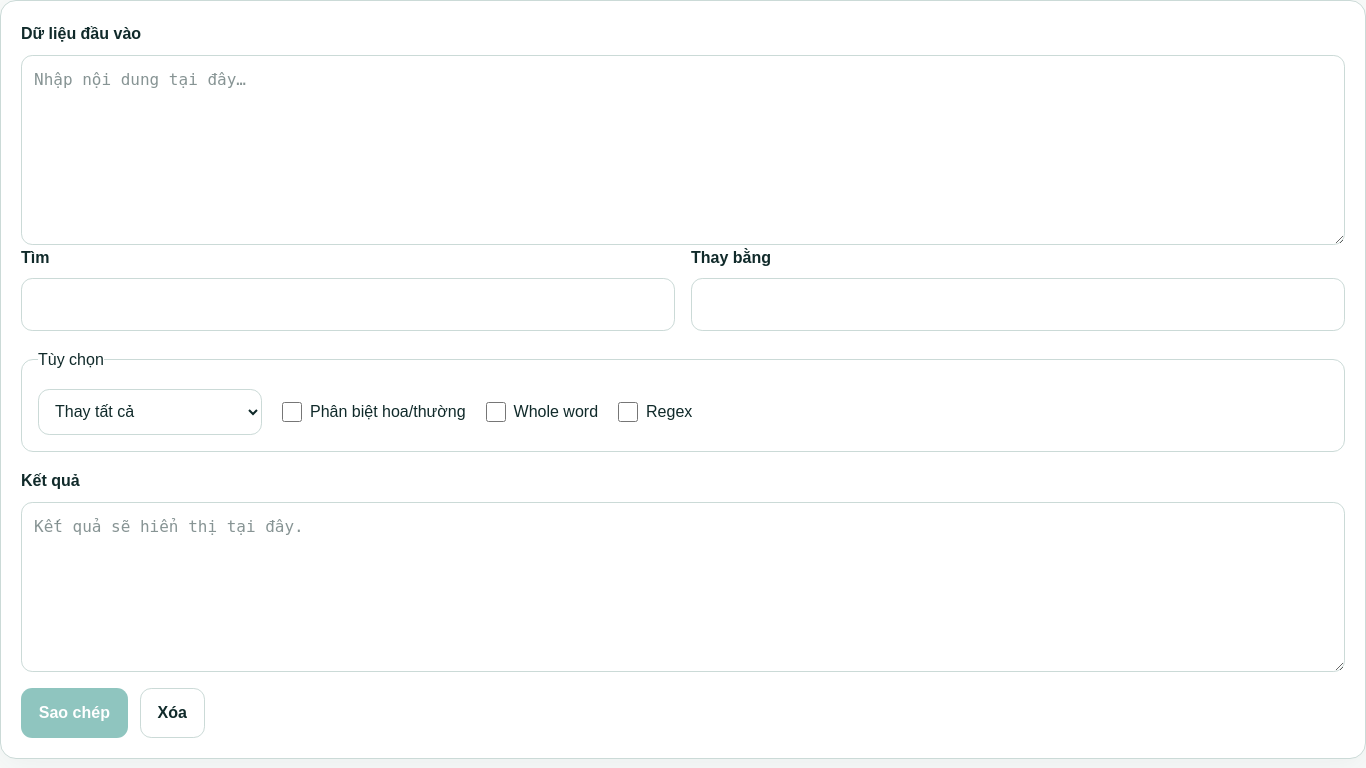
Test: ToolWorkbench › shows regex validation instead of crashing
This screenshot has width=1366, height=768.
In the text box labelled "Dữ liệu đầu vào": x=683, y=150 [21,55,1345,245], type "abc"
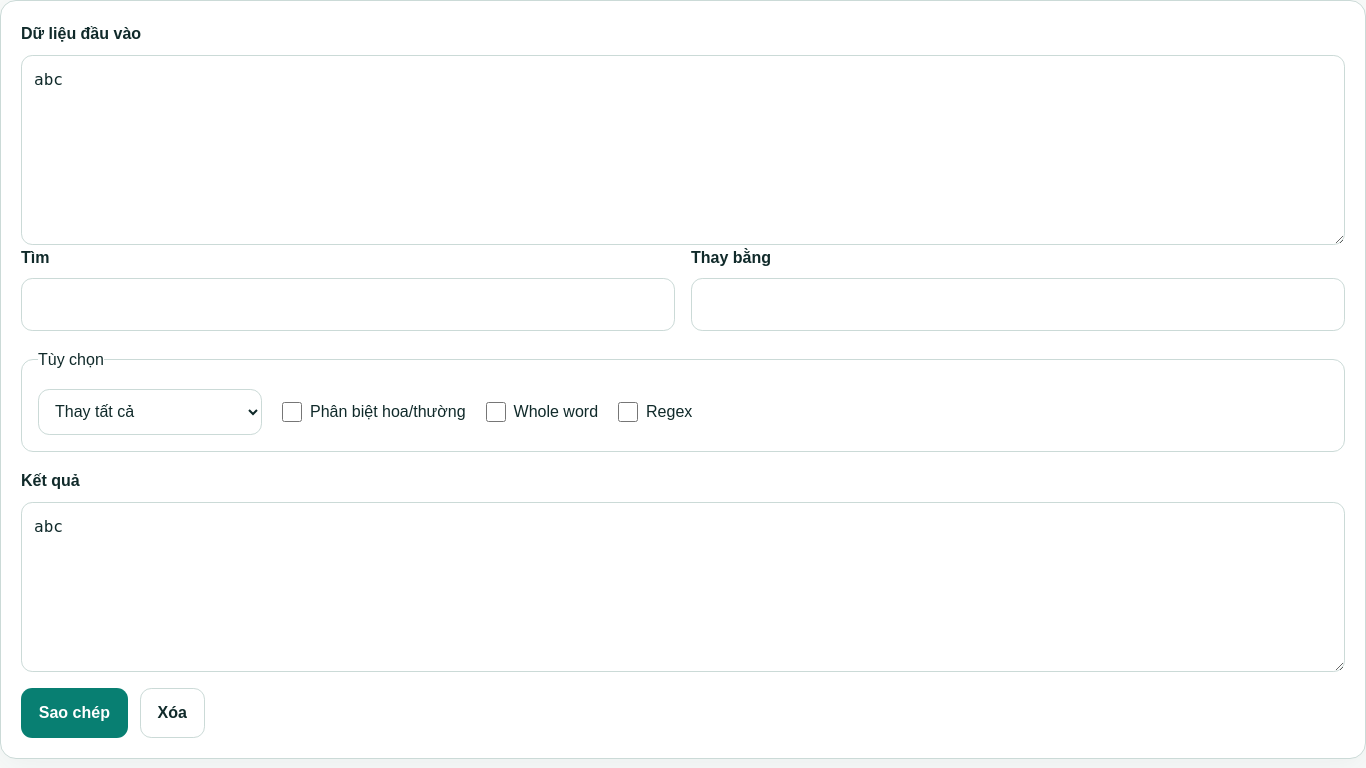
In the field labelled "Tìm": x=348, y=304 [21,278,675,331], type "["
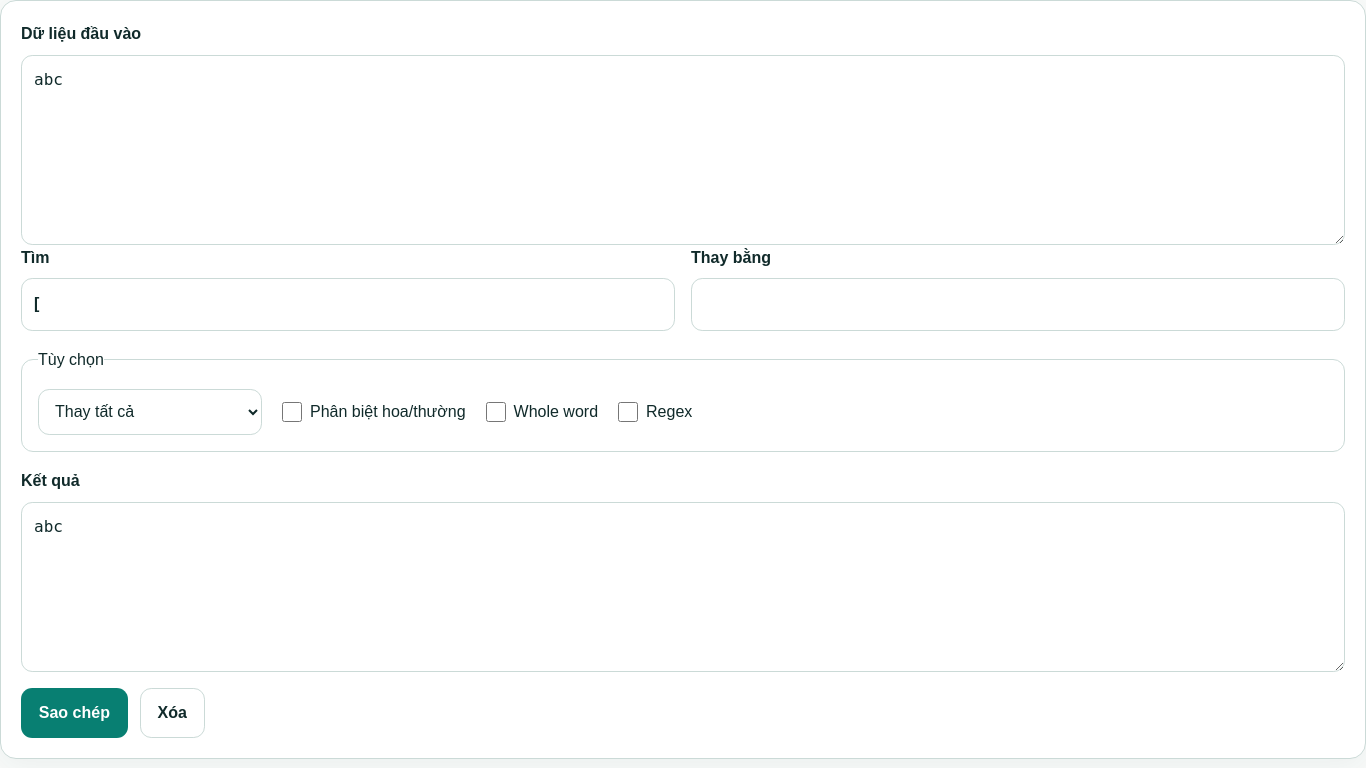
Click the checkbox labelled "Regex": x=628, y=412 [618,402,638,422]
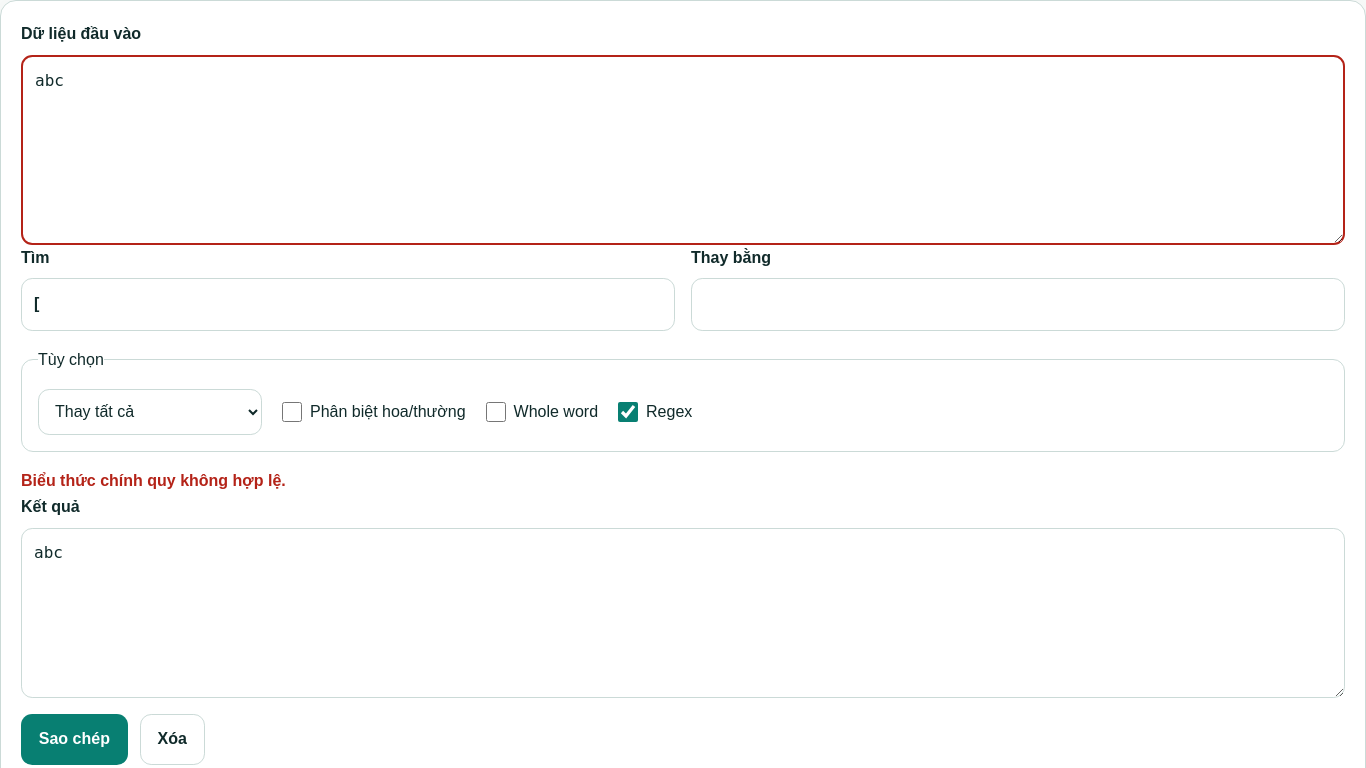
Result: the message shows "không hợp lệ" at [21,472,286,489]
